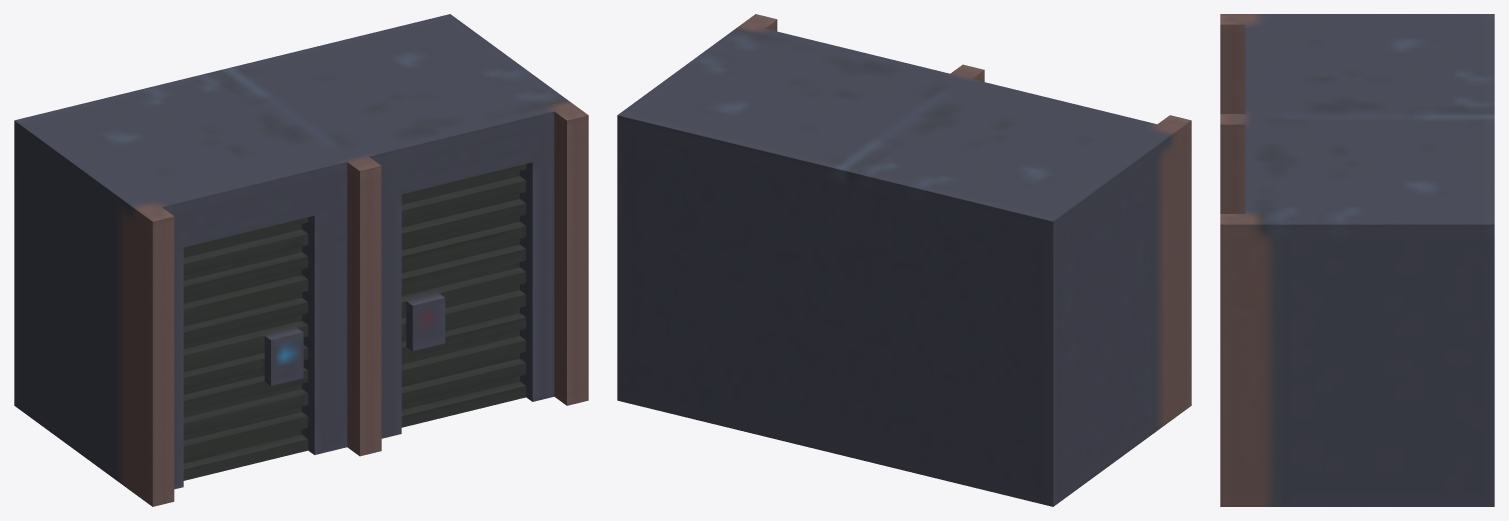
Rendered from BuildingBlock_19.glb.
The picture shows the model from 3 angles, left to right: view 1: azimuth 30°, elevation 25°; view 2: azimuth 150°, elevation 25°; view 3: azimuth 270°, elevation 25°; orthographic projection.
Visible parts, largest first — view 1: BuildingBlock_19; view 2: BuildingBlock_19; view 3: BuildingBlock_19.
Boxes of the visible parts, left/top/right/bottom form: BuildingBlock_19: left=14, top=14, right=588, bottom=506; BuildingBlock_19: left=617, top=14, right=1191, bottom=506; BuildingBlock_19: left=1220, top=14, right=1494, bottom=506.
Size of the model in its own units: 4 by 2.5 by 2.2.
1 material, 1 textured.
